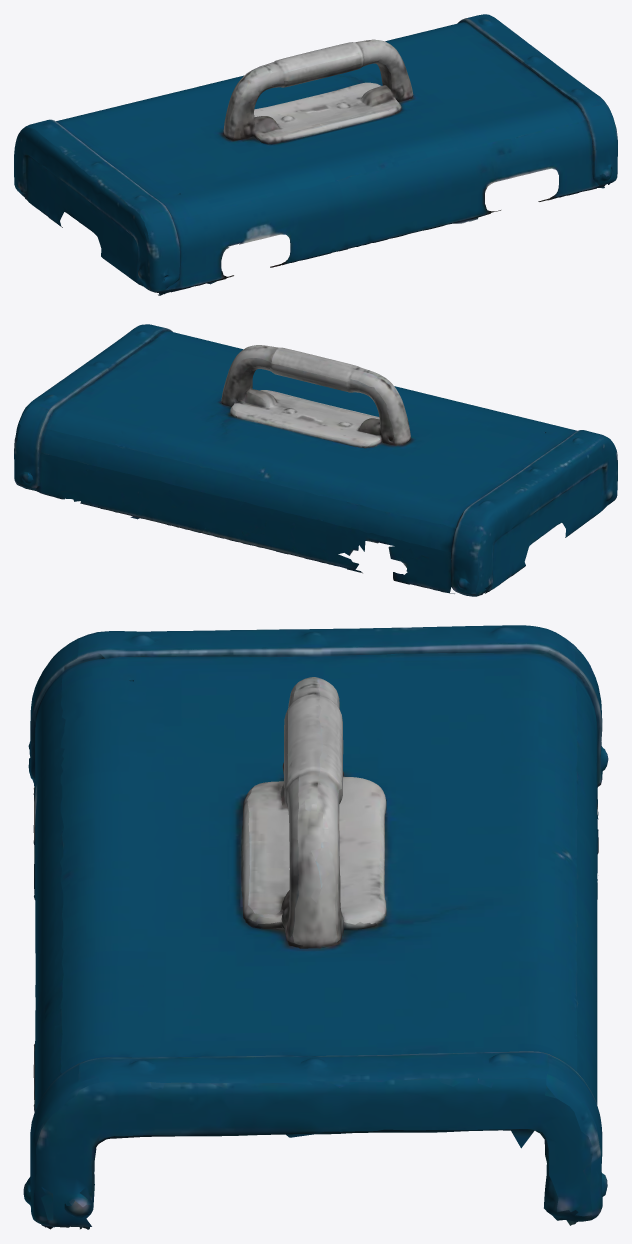
3 renders of one model, top to bottom at view 1: azimuth 30°, elevation 25°; view 2: azimuth 150°, elevation 25°; view 3: azimuth 270°, elevation 25°, orthographic. The views are drawn at different scales.
Parts seen in each view (by area): view 1: world; view 2: world; view 3: world.
Boxes of the visible parts, bbox=[...] form: world: bbox=[14, 14, 617, 295]; world: bbox=[14, 324, 617, 596]; world: bbox=[23, 625, 608, 1229].
Bounding box in the file's own units: 0.4454 × 0.1251 × 0.2388.
1 material, 1 textured.
